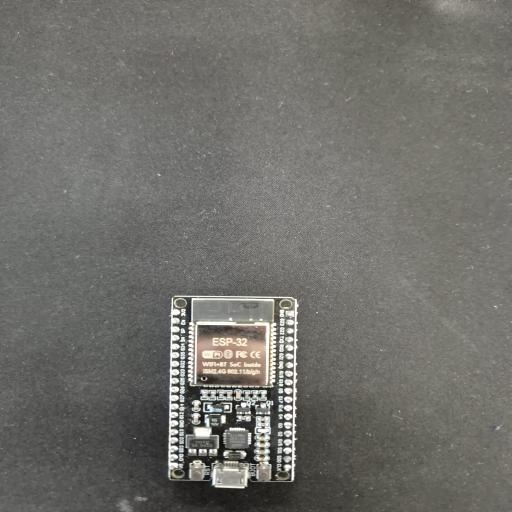esp32-dev: (168, 296, 297, 488)
